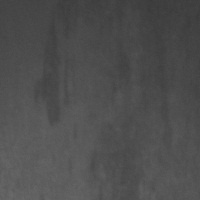inclusion: (145, 28, 180, 159), (33, 17, 71, 128), (102, 36, 131, 96), (90, 140, 111, 190)
